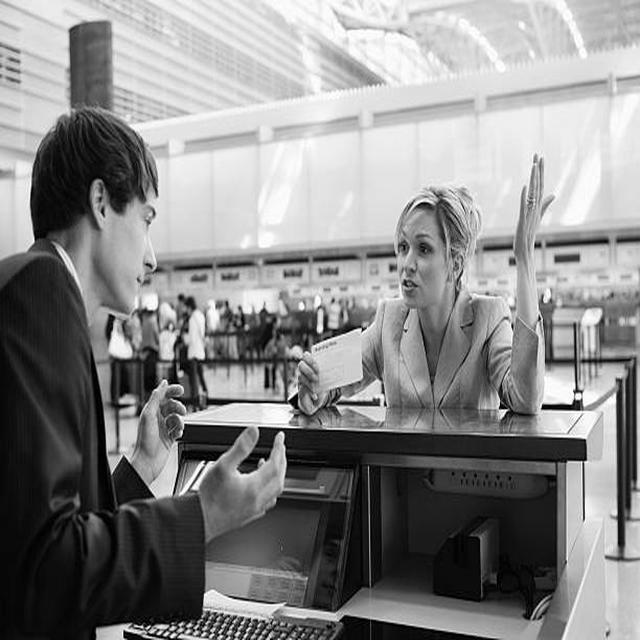Angry: (397, 209, 452, 308)
